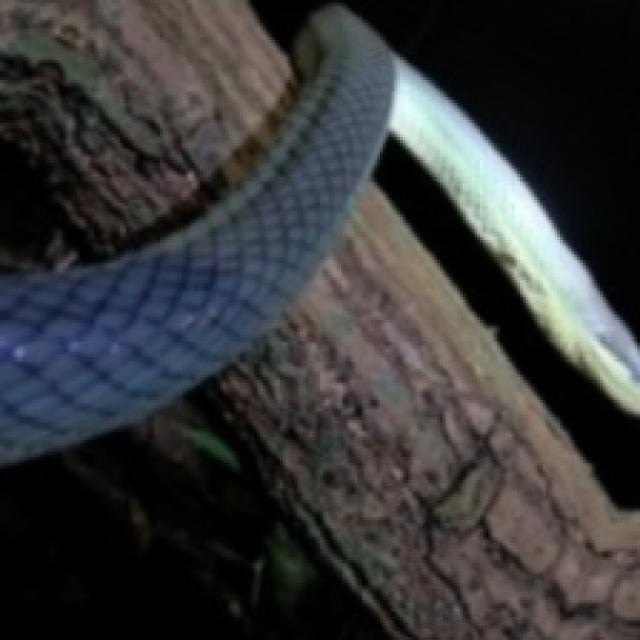red-tailed green ratsnake: (0, 6, 640, 464)
